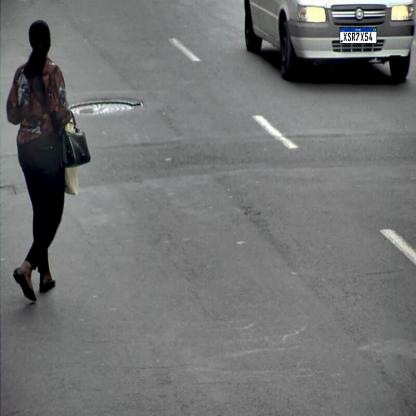PlacaM: (340, 27, 377, 44)
